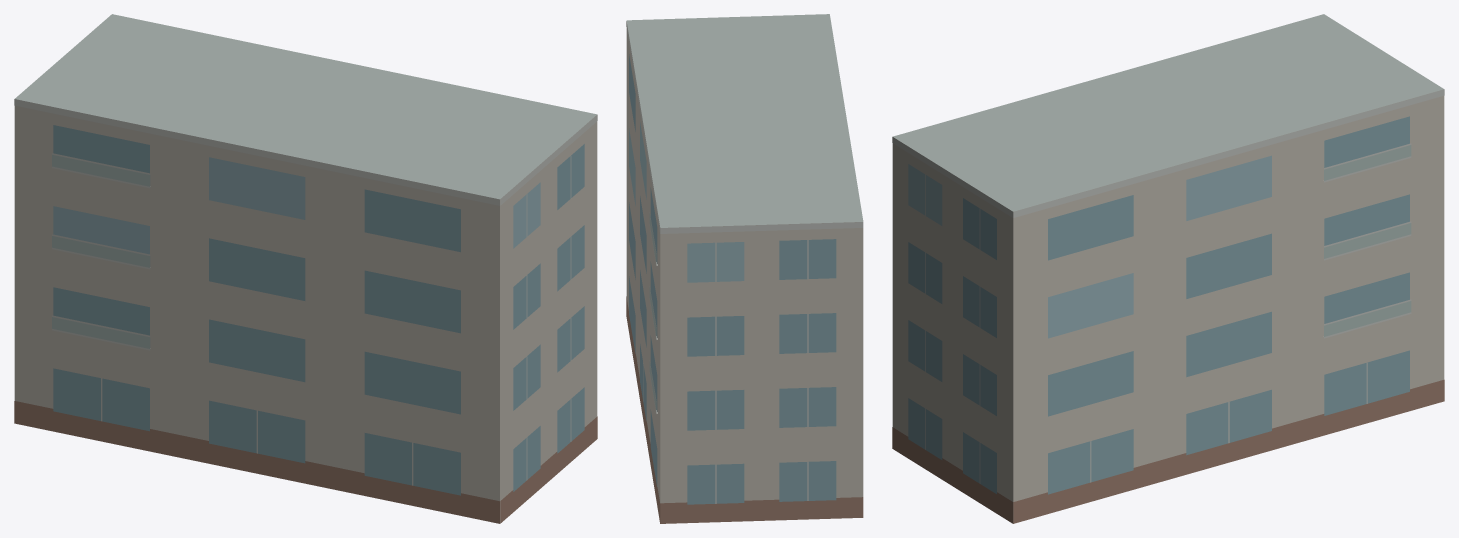
The model's file is survey-upis-32806588.glb.
3 renders of one model, left to right at view 1: azimuth 30°, elevation 25°; view 2: azimuth 150°, elevation 25°; view 3: azimuth 270°, elevation 25°, orthographic. The views are drawn at different scales.
Parts seen in each view (by area): view 1: survey-upis-32806588.tmp; view 2: survey-upis-32806588.tmp; view 3: survey-upis-32806588.tmp.
Part boxes in pixels (x1=…): survey-upis-32806588.tmp: x1=14, y1=14, x2=597, y2=523; survey-upis-32806588.tmp: x1=626, y1=14, x2=863, y2=523; survey-upis-32806588.tmp: x1=892, y1=14, x2=1444, y2=523.
Bounding box in the file's own units: 16.32 × 12 × 19.24.
